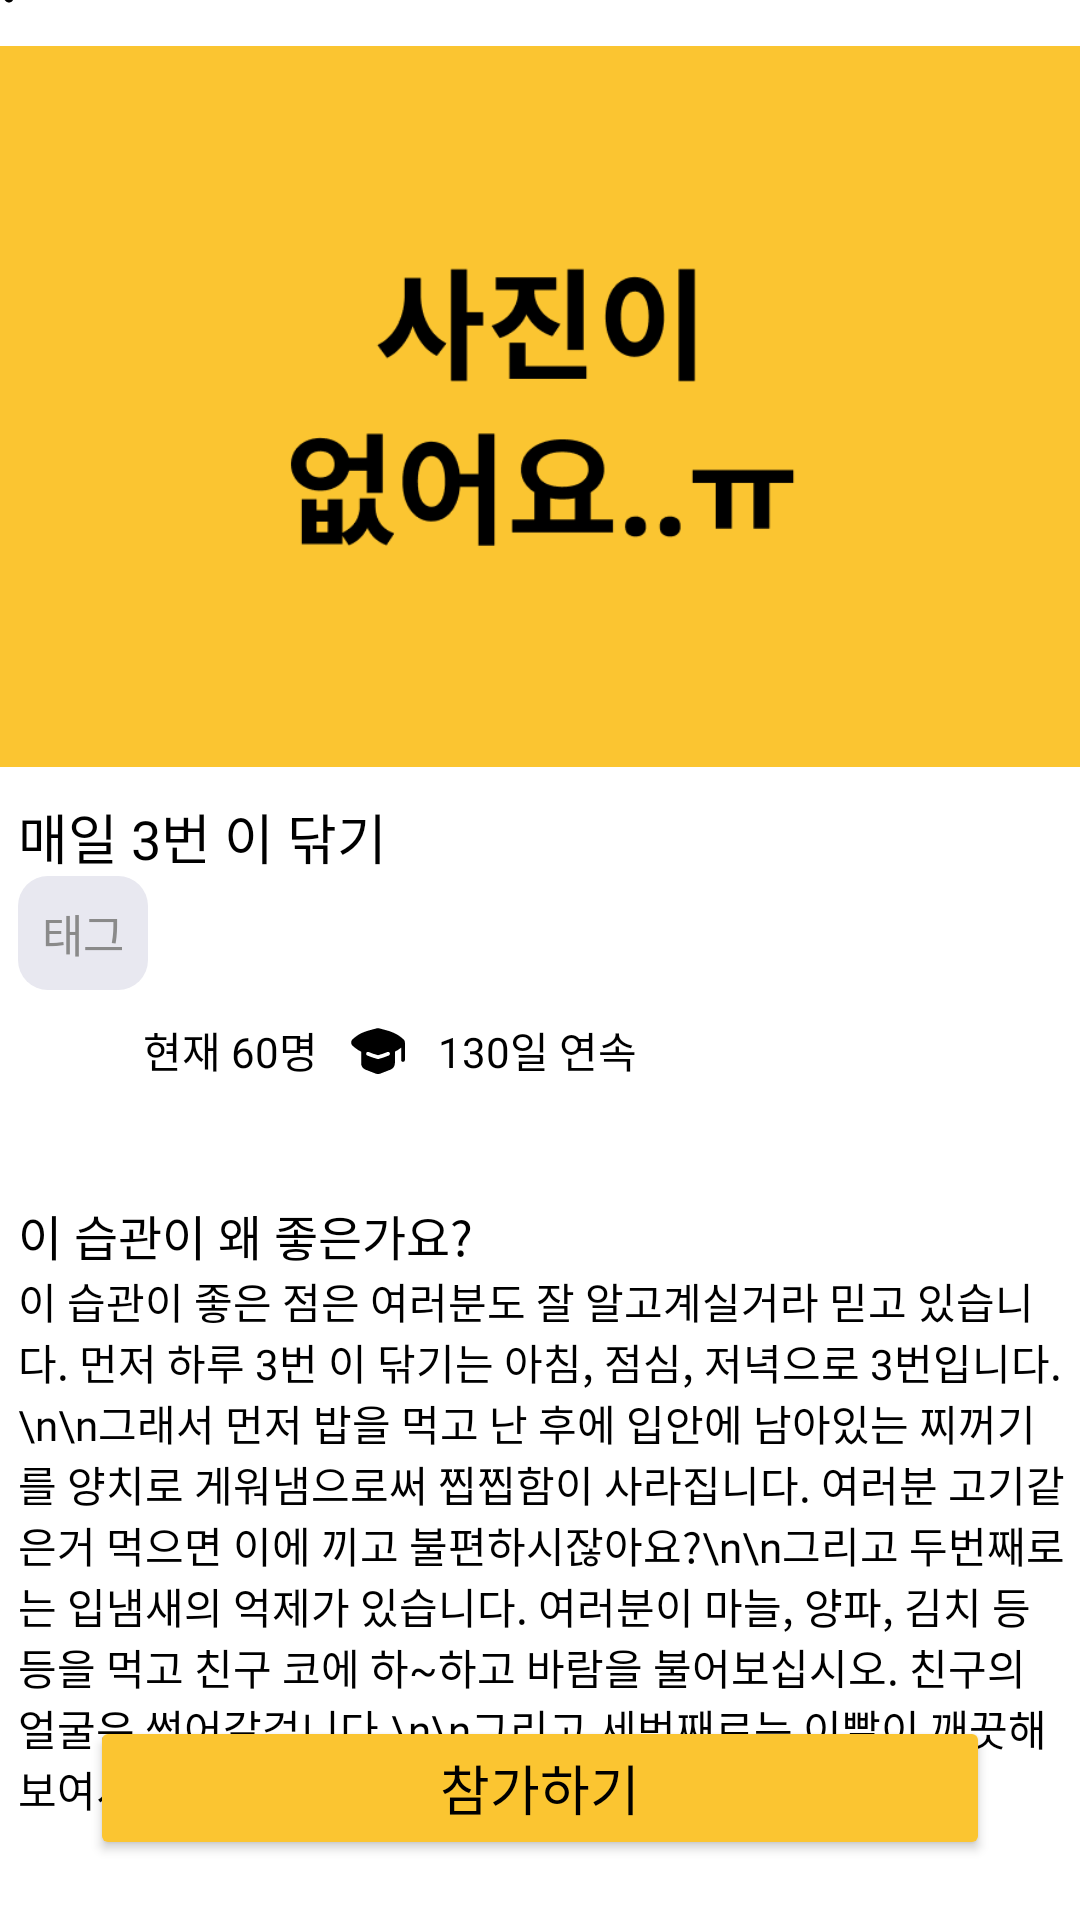

Icon bounding boxes for this 1080w x 1920h phone screenshot, format [x1=x1, y1=y1, x2=x2, y2=y2]:
university: [x1=351, y1=1028, x2=405, y2=1074]
